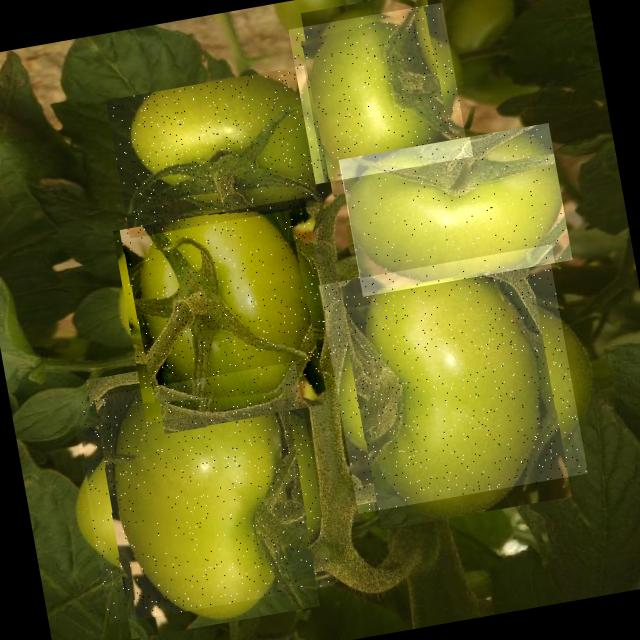Unripe Tomato: (318, 244, 588, 514), (70, 361, 334, 624), (112, 197, 338, 423), (335, 122, 572, 296), (105, 65, 328, 238), (288, 2, 469, 184)
